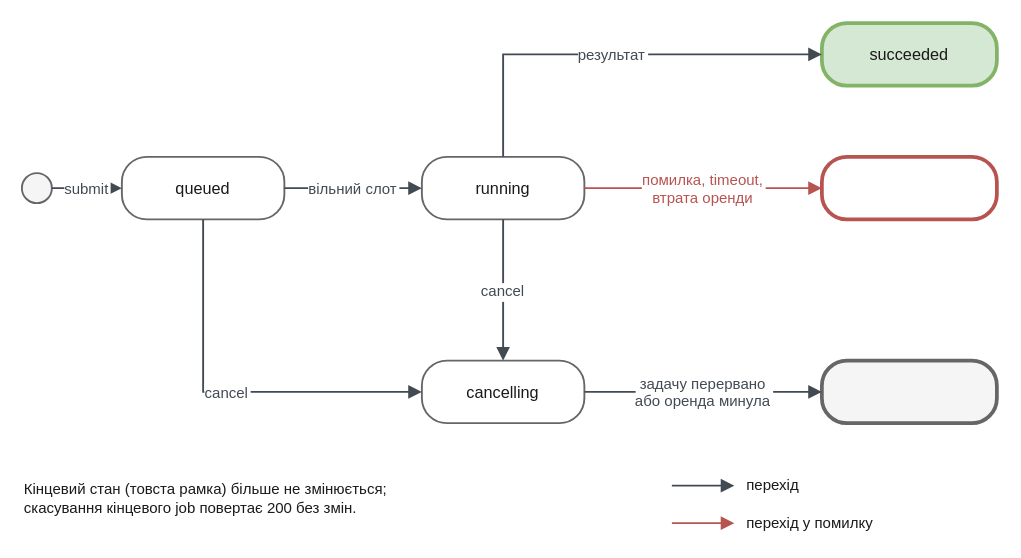
Some shapes in this 1021 by 558 pixel diagram are drawn without their labels. The centre of each missing label's shape, as x and y in pixels:
"cancelled" belongs at (x=908, y=391).
"failed" belongs at (x=908, y=187).
